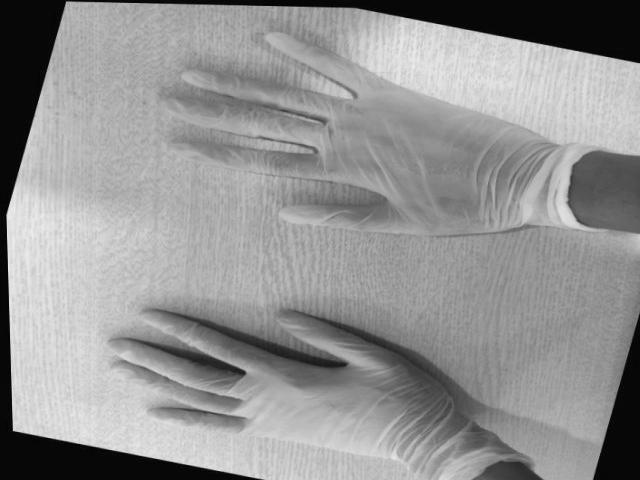gloved: (165, 35, 528, 237), (106, 309, 426, 462)
